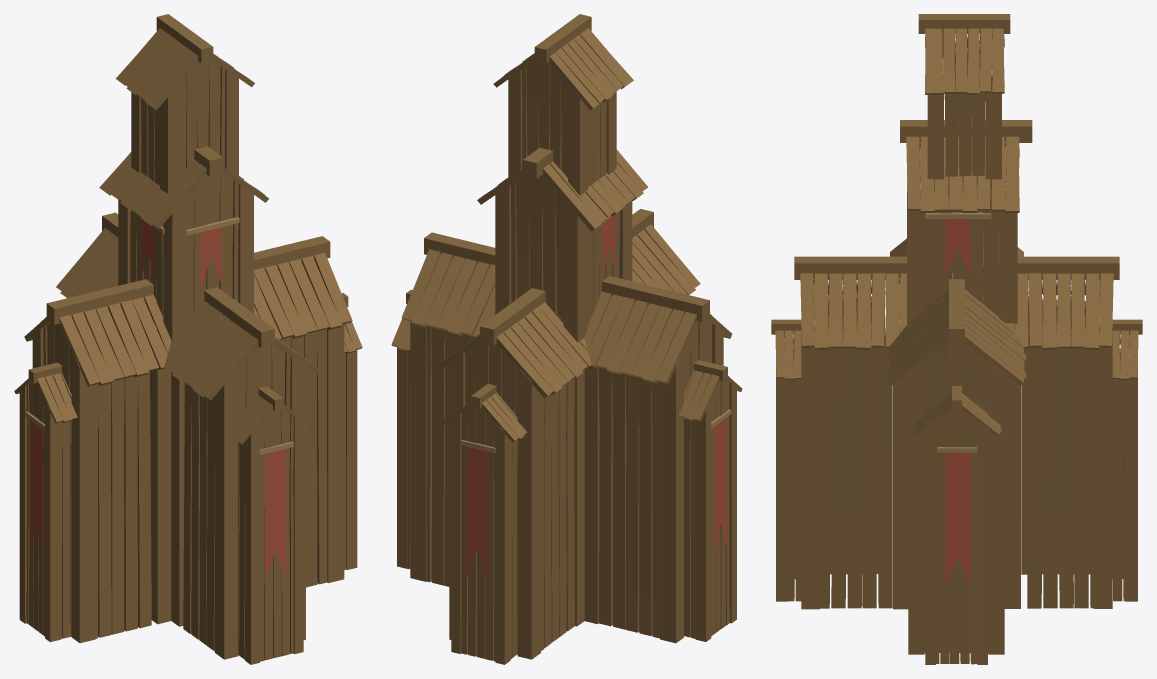
The model's file is Wodden Temple.glb.
3 renders of one model, left to right at view 1: azimuth 30°, elevation 25°; view 2: azimuth 150°, elevation 25°; view 3: azimuth 270°, elevation 25°, orthographic. The views are drawn at different scales.
Visible parts, largest first — view 1: Wodden Temple; view 2: Wodden Temple; view 3: Wodden Temple.
Boxes of the visible parts, box(x1,y1,x2,y2) form: Wodden Temple: box(14, 14, 362, 664); Wodden Temple: box(391, 14, 742, 664); Wodden Temple: box(771, 14, 1142, 664).
Size of the model in its own units: 2.61 by 4.43 by 2.61.
